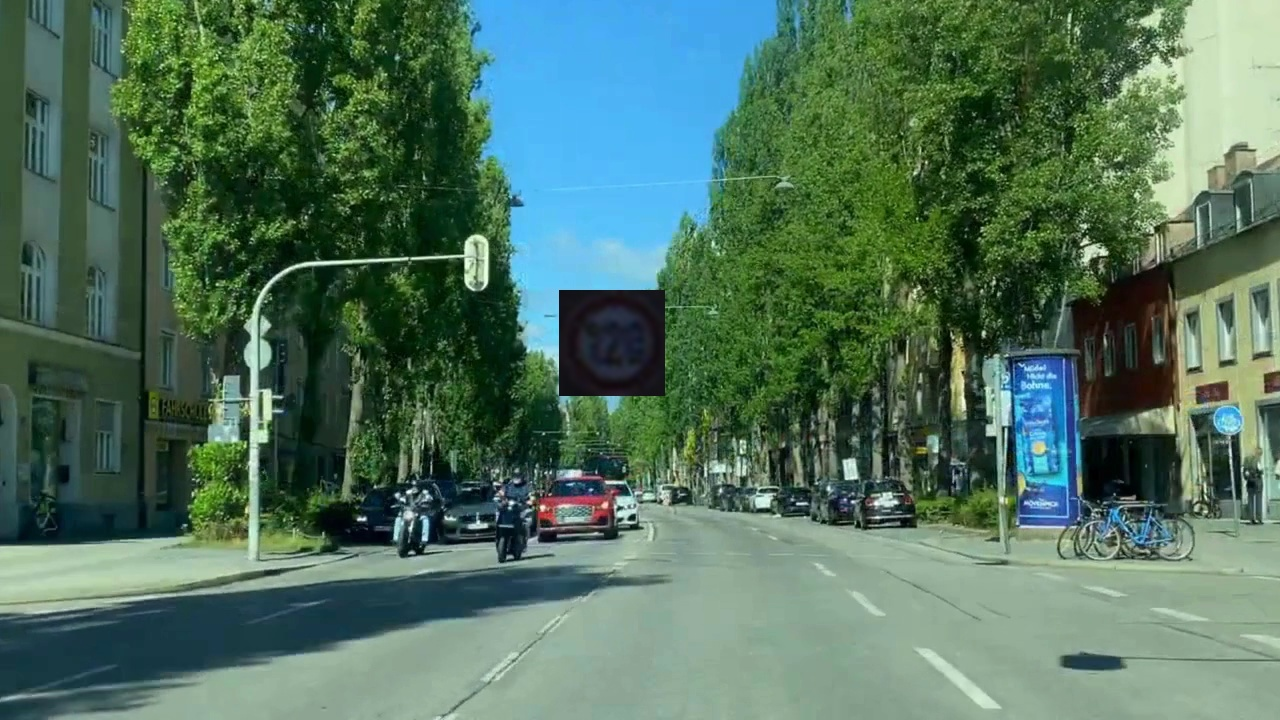Speed 120: (559, 290, 665, 396)
